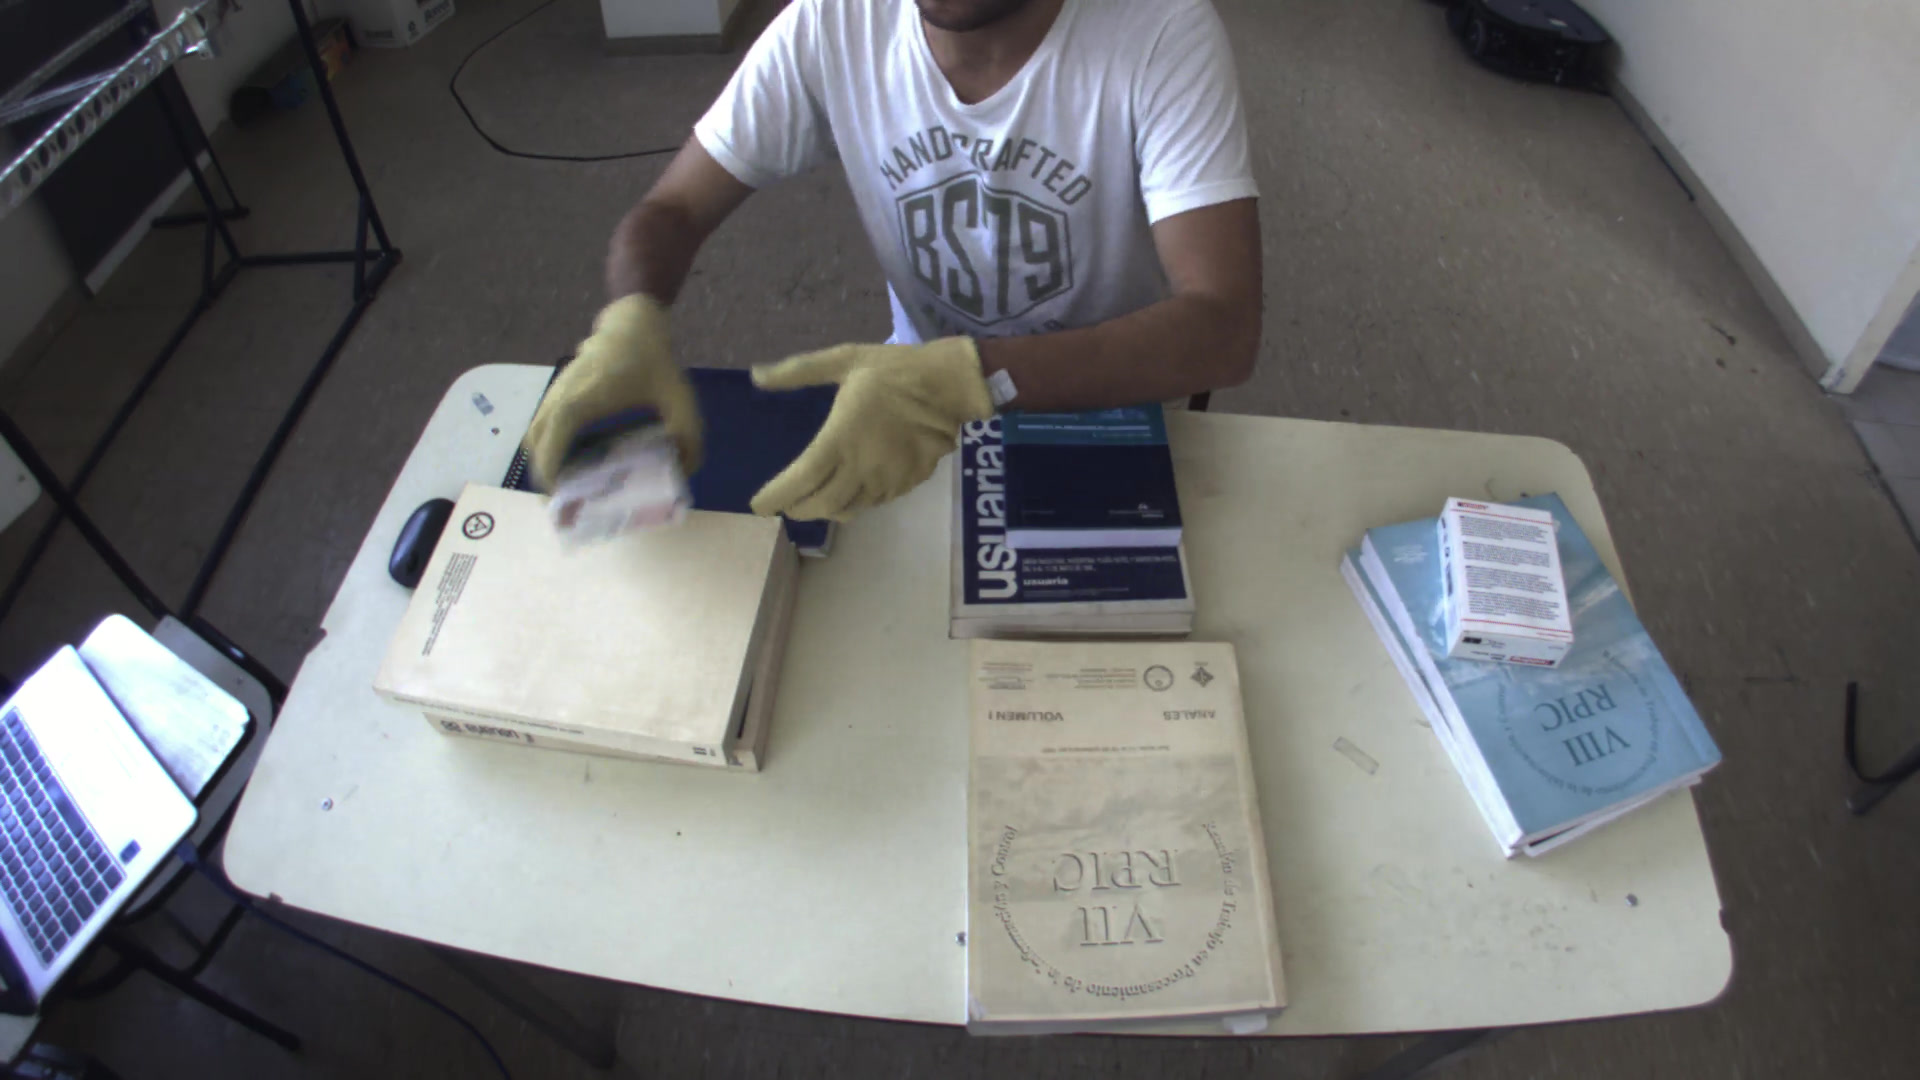hand: (733, 314, 1019, 535), (498, 291, 705, 487)
